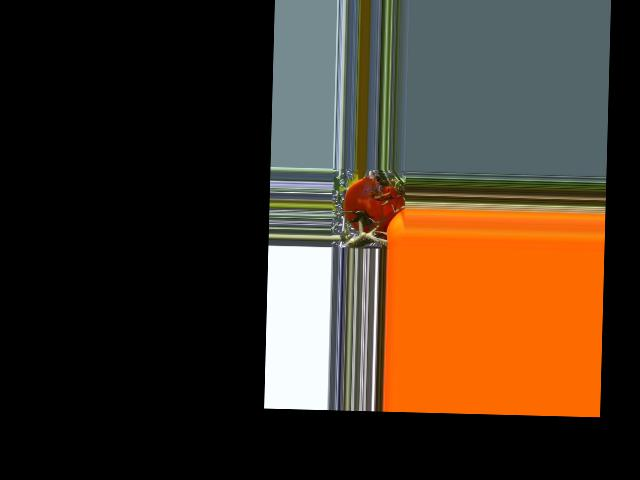tomato: (342, 175, 404, 234)
